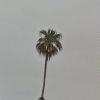Palm tree: (30, 21, 63, 100)
